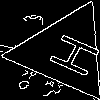H: (39, 27, 100, 80)
